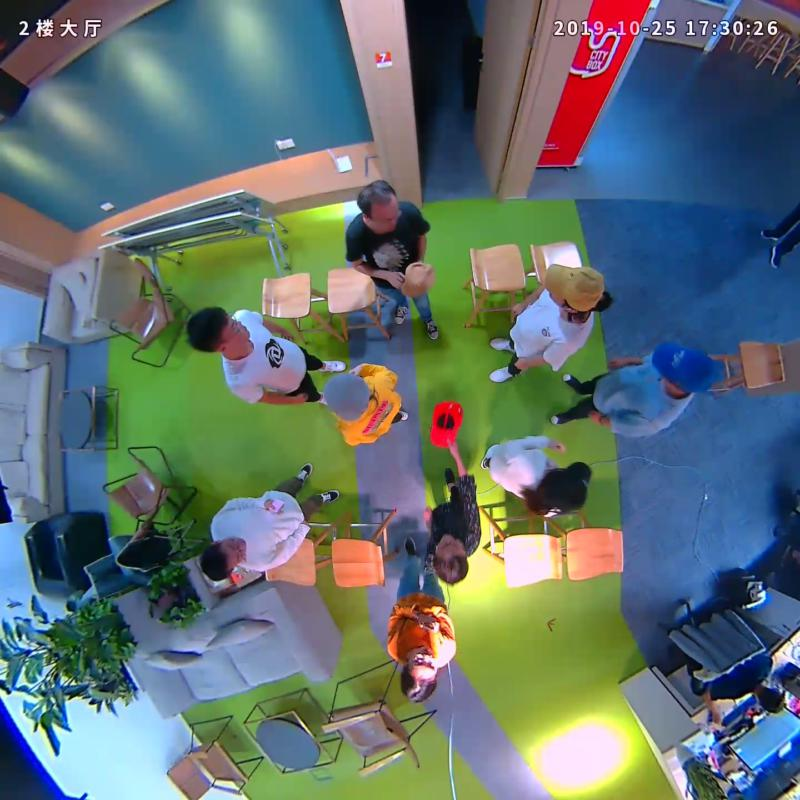head: (652, 340, 721, 397), (543, 262, 606, 313), (187, 307, 251, 353), (538, 460, 593, 513), (355, 178, 399, 235), (325, 372, 372, 420), (400, 644, 438, 703), (200, 536, 246, 582), (432, 533, 469, 584)
